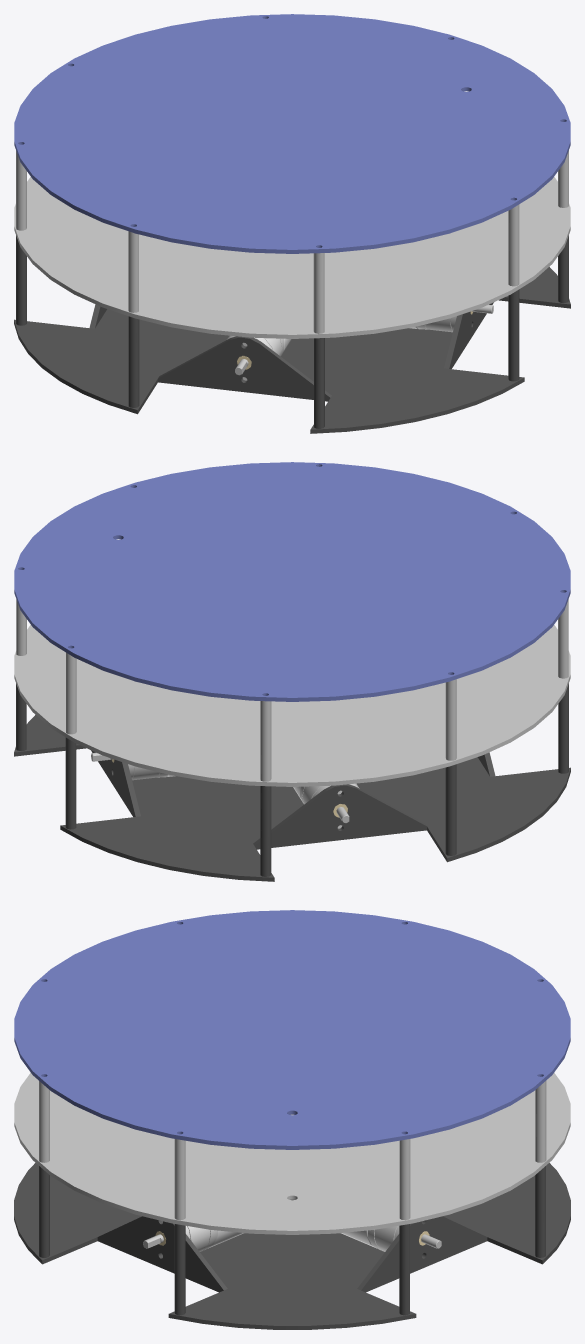
The picture shows the model from 3 angles, top to bottom: view 1: azimuth 30°, elevation 25°; view 2: azimuth 150°, elevation 25°; view 3: azimuth 270°, elevation 25°; orthographic projection.
Parts seen in each view (by area): view 1: base_link_test; view 2: base_link_test; view 3: base_link_test.
Part boxes in pixels (x1,y1,x2,y2): base_link_test: (14, 14, 570, 433); base_link_test: (14, 462, 570, 881); base_link_test: (14, 910, 570, 1329).
Bounding box in the file's own units: 0.25 × 0.2495 × 0.091.
